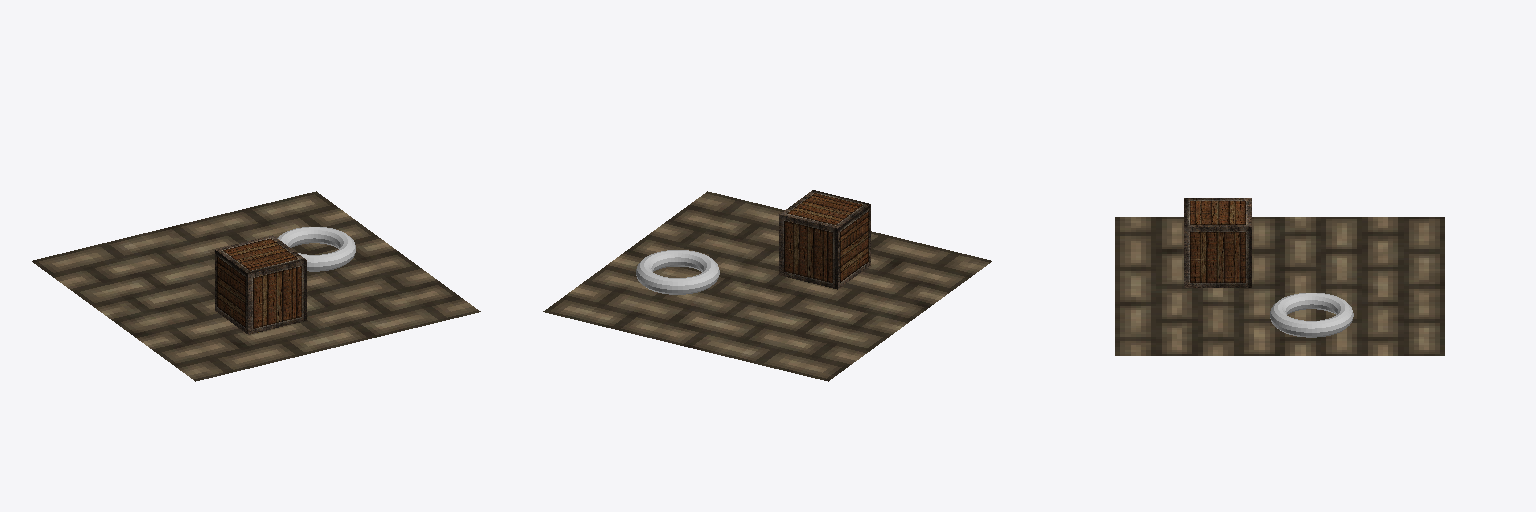
The picture shows the model from 3 angles: view 1: azimuth 30°, elevation 25°; view 2: azimuth 150°, elevation 25°; view 3: azimuth 270°, elevation 25°; orthographic projection.
Visible parts, largest first — view 1: Plane, Cube_Cube.001, Torus; view 2: Plane, Cube_Cube.001, Torus; view 3: Plane, Cube_Cube.001, Torus.
Boxes of the visible parts, <box> form: Plane: <box>32,191,480,381</box>; Cube_Cube.001: <box>215,235,306,334</box>; Torus: <box>277,227,355,271</box>; Plane: <box>543,191,991,381</box>; Cube_Cube.001: <box>779,190,870,289</box>; Torus: <box>636,250,719,294</box>; Plane: <box>1115,217,1444,355</box>; Cube_Cube.001: <box>1184,198,1251,287</box>; Torus: <box>1270,293,1353,337</box>.
Size of the model in its own units: 9.8 by 2 by 9.8.
Materials: 3 (2 with a texture image).